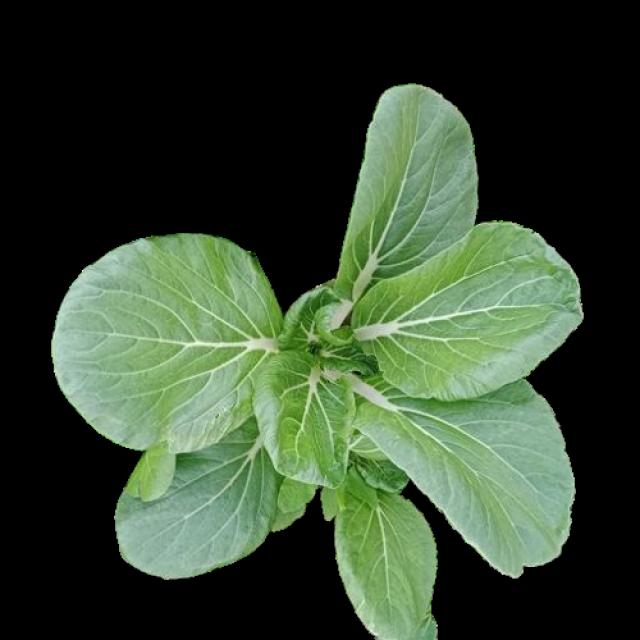mature: (52, 80, 581, 640)
unhealthy: (55, 232, 282, 449), (354, 222, 588, 400)
